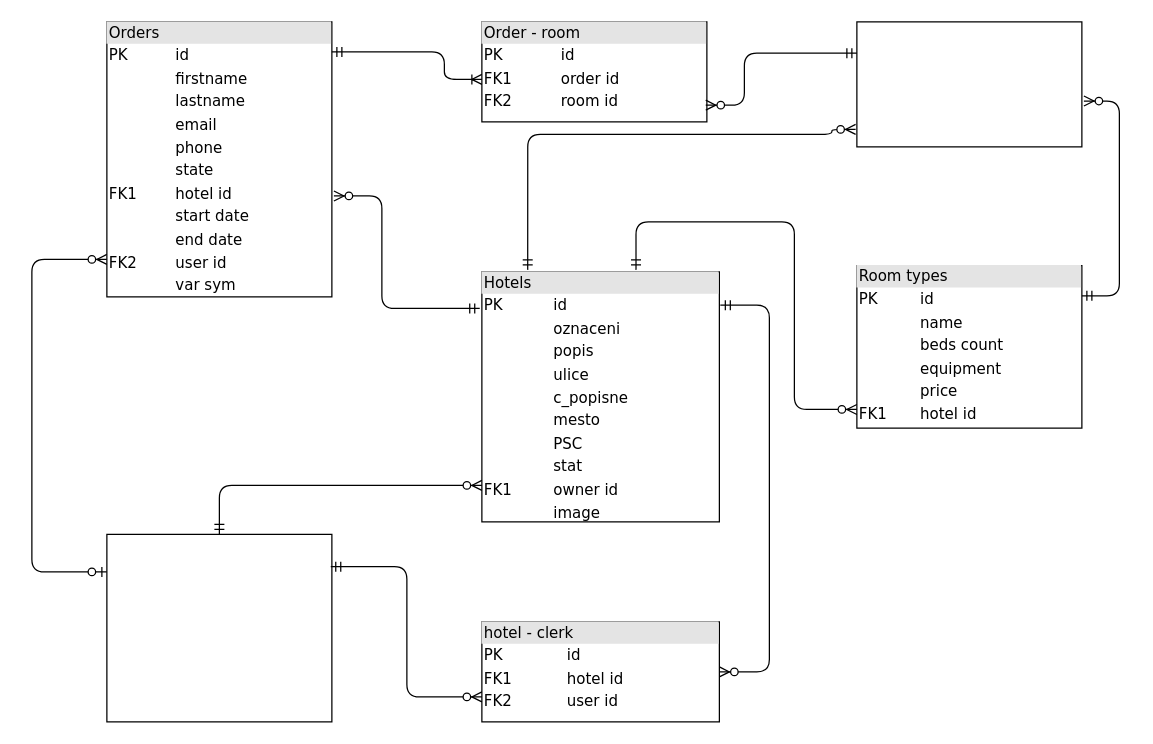
Some shapes in this 1153 by 744 pixel diagram are drawn without their labels. The shapes that lost their labels are listed below. From the top down, each one's centre as x and y in pixels, then its label:
At (969,84): "Rooms PK id number FK1 room type id FK2 hotel id".
At (219,627): "Users PK id firstname lastname email password rememberToken role".
